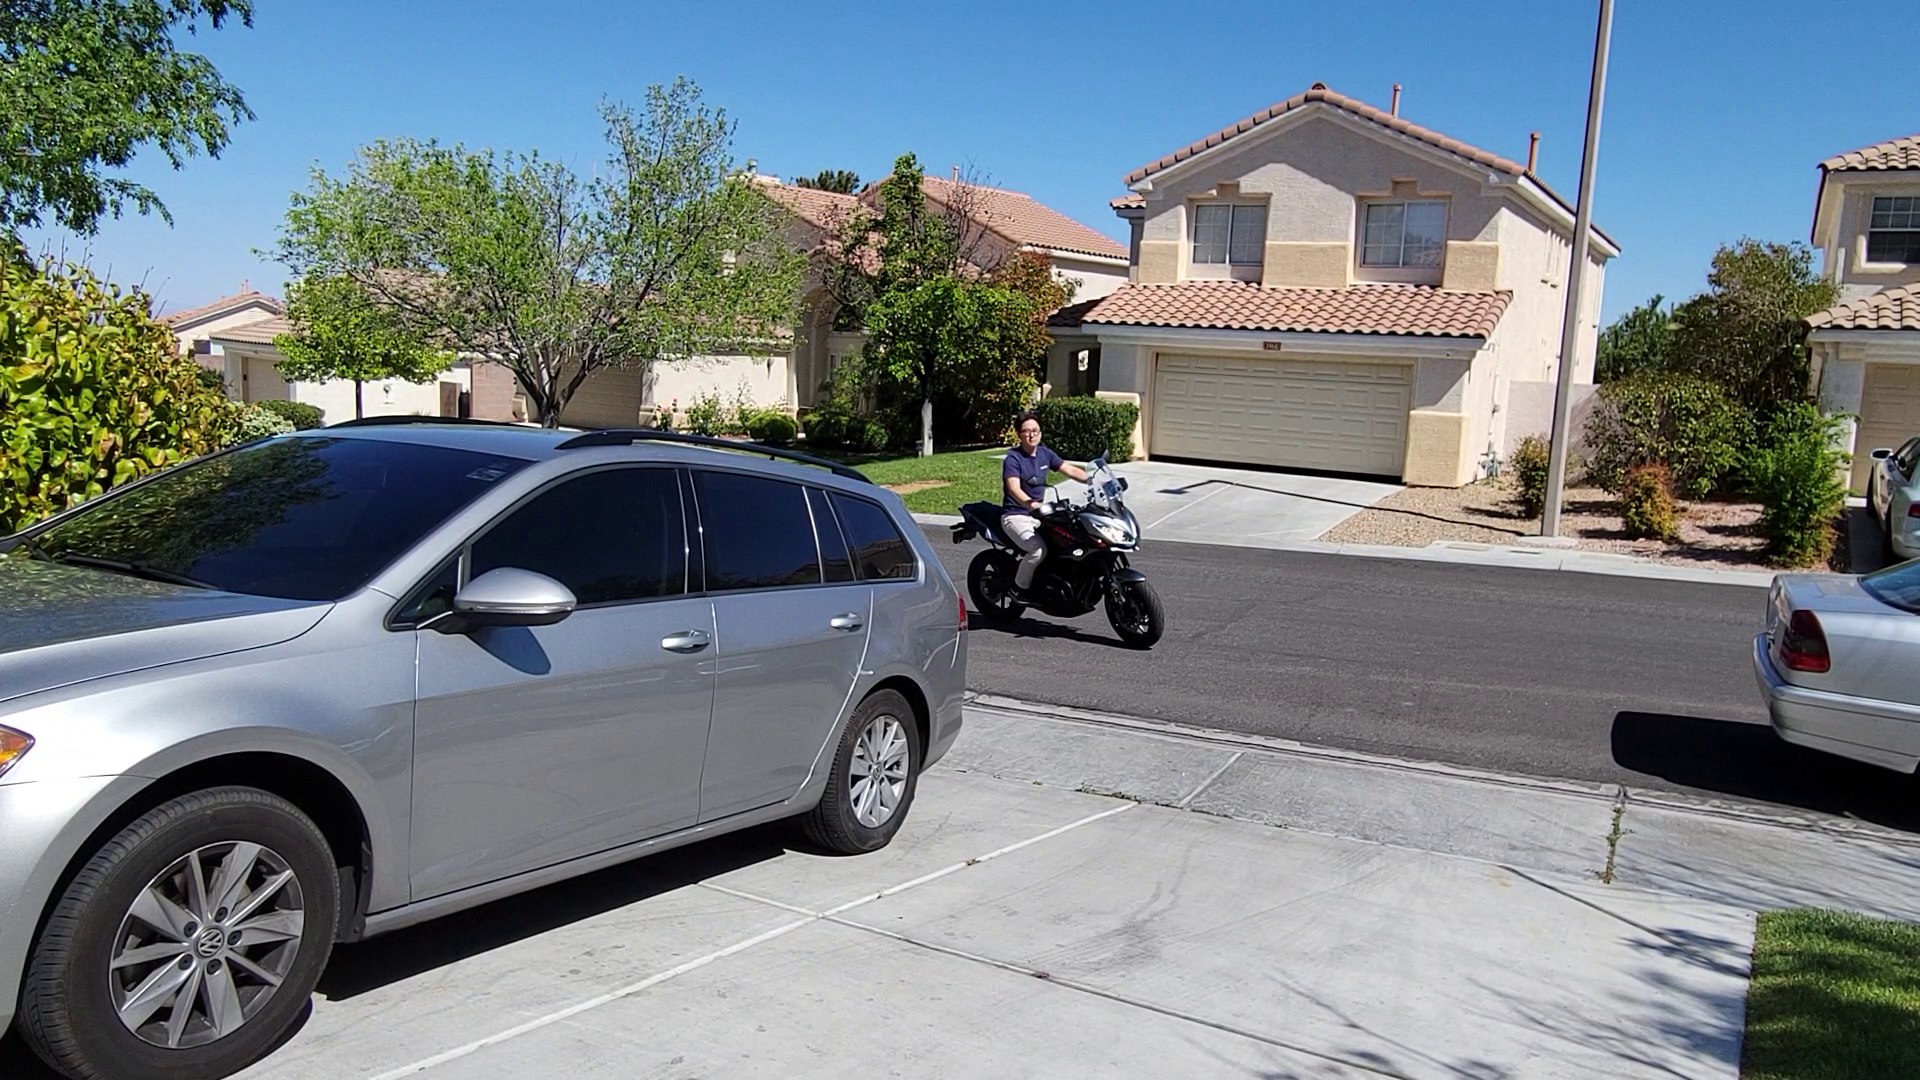my bike: (943, 406, 1168, 651)
